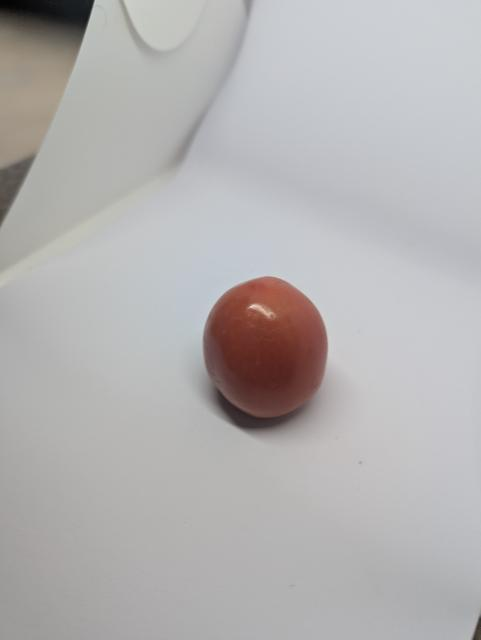red: (202, 271, 332, 430)
